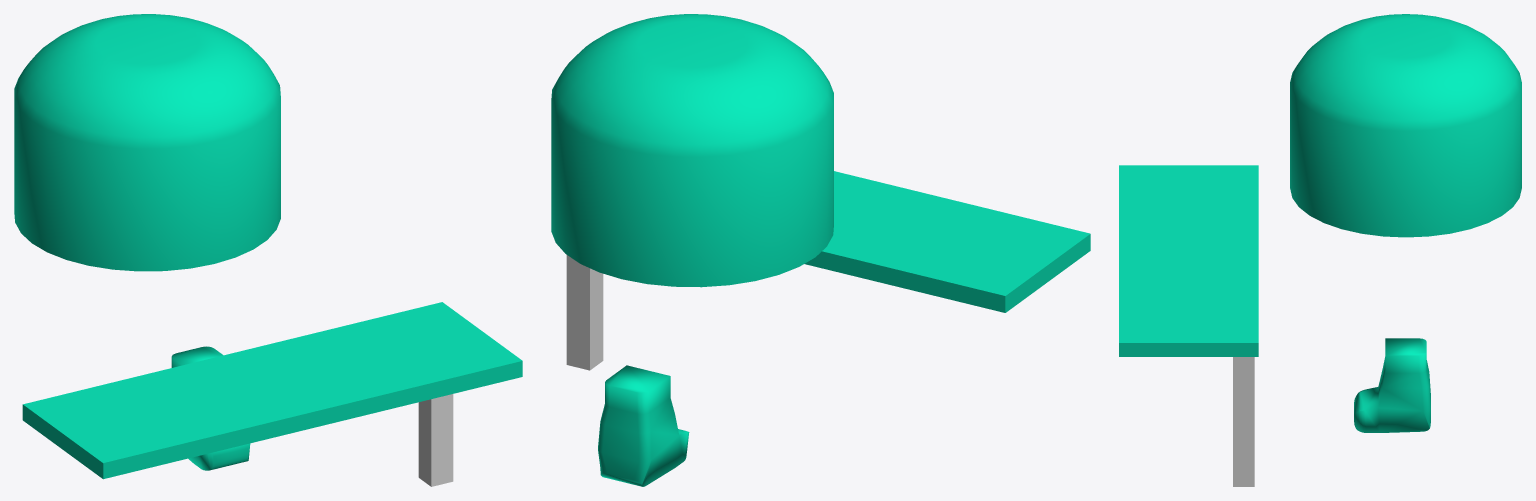
Rendered from card.glb.
3 renders of one model, left to right at view 1: azimuth 30°, elevation 25°; view 2: azimuth 150°, elevation 25°; view 3: azimuth 270°, elevation 25°, orthographic. The views are drawn at different scales.
Visible parts, largest first — view 1: Cylinder, Cube.001, Cube.002, Cube; view 2: Cylinder, Cube.001, Cube, Cube.002; view 3: Cylinder, Cube.001, Cube, Cube.002.
Part boxes in pixels (left/top/right/bottom): Cylinder: left=14, top=14, right=280, bottom=271; Cube.001: left=22, top=302, right=522, bottom=479; Cube.002: left=418, top=394, right=453, bottom=486; Cube: left=171, top=346, right=250, bottom=470; Cylinder: left=551, top=14, right=833, bottom=287; Cube.001: left=804, top=171, right=1090, bottom=312; Cube: left=598, top=365, right=689, bottom=486; Cube.002: left=566, top=255, right=603, bottom=370; Cylinder: left=1290, top=14, right=1521, bottom=237; Cube.001: left=1119, top=165, right=1258, bottom=356; Cube: left=1354, top=338, right=1430, bottom=432; Cube.002: left=1233, top=357, right=1254, bottom=486.
Size of what is drawn, in the model's own units: 0.1304 by 0.124 by 0.125.
